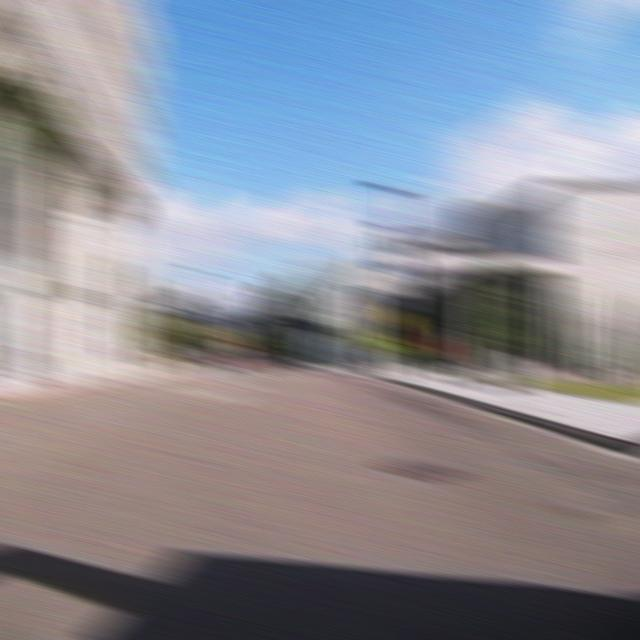pedestrianCrossing: (382, 305, 414, 332)
